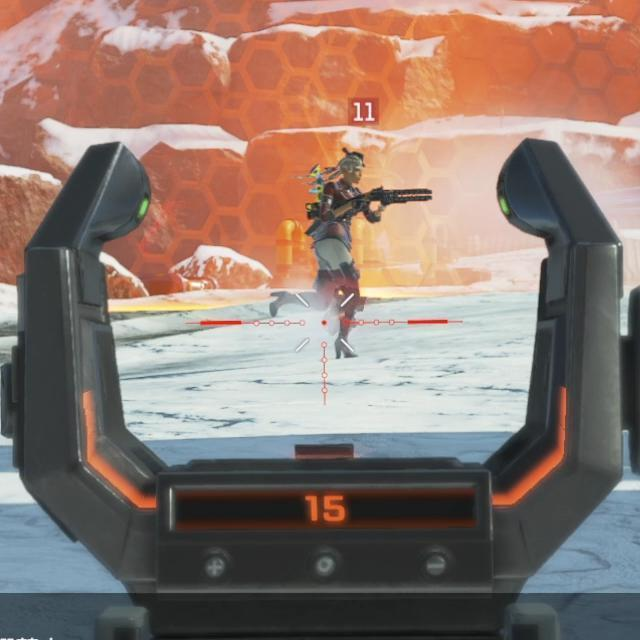avatar: (302, 147, 368, 360)
